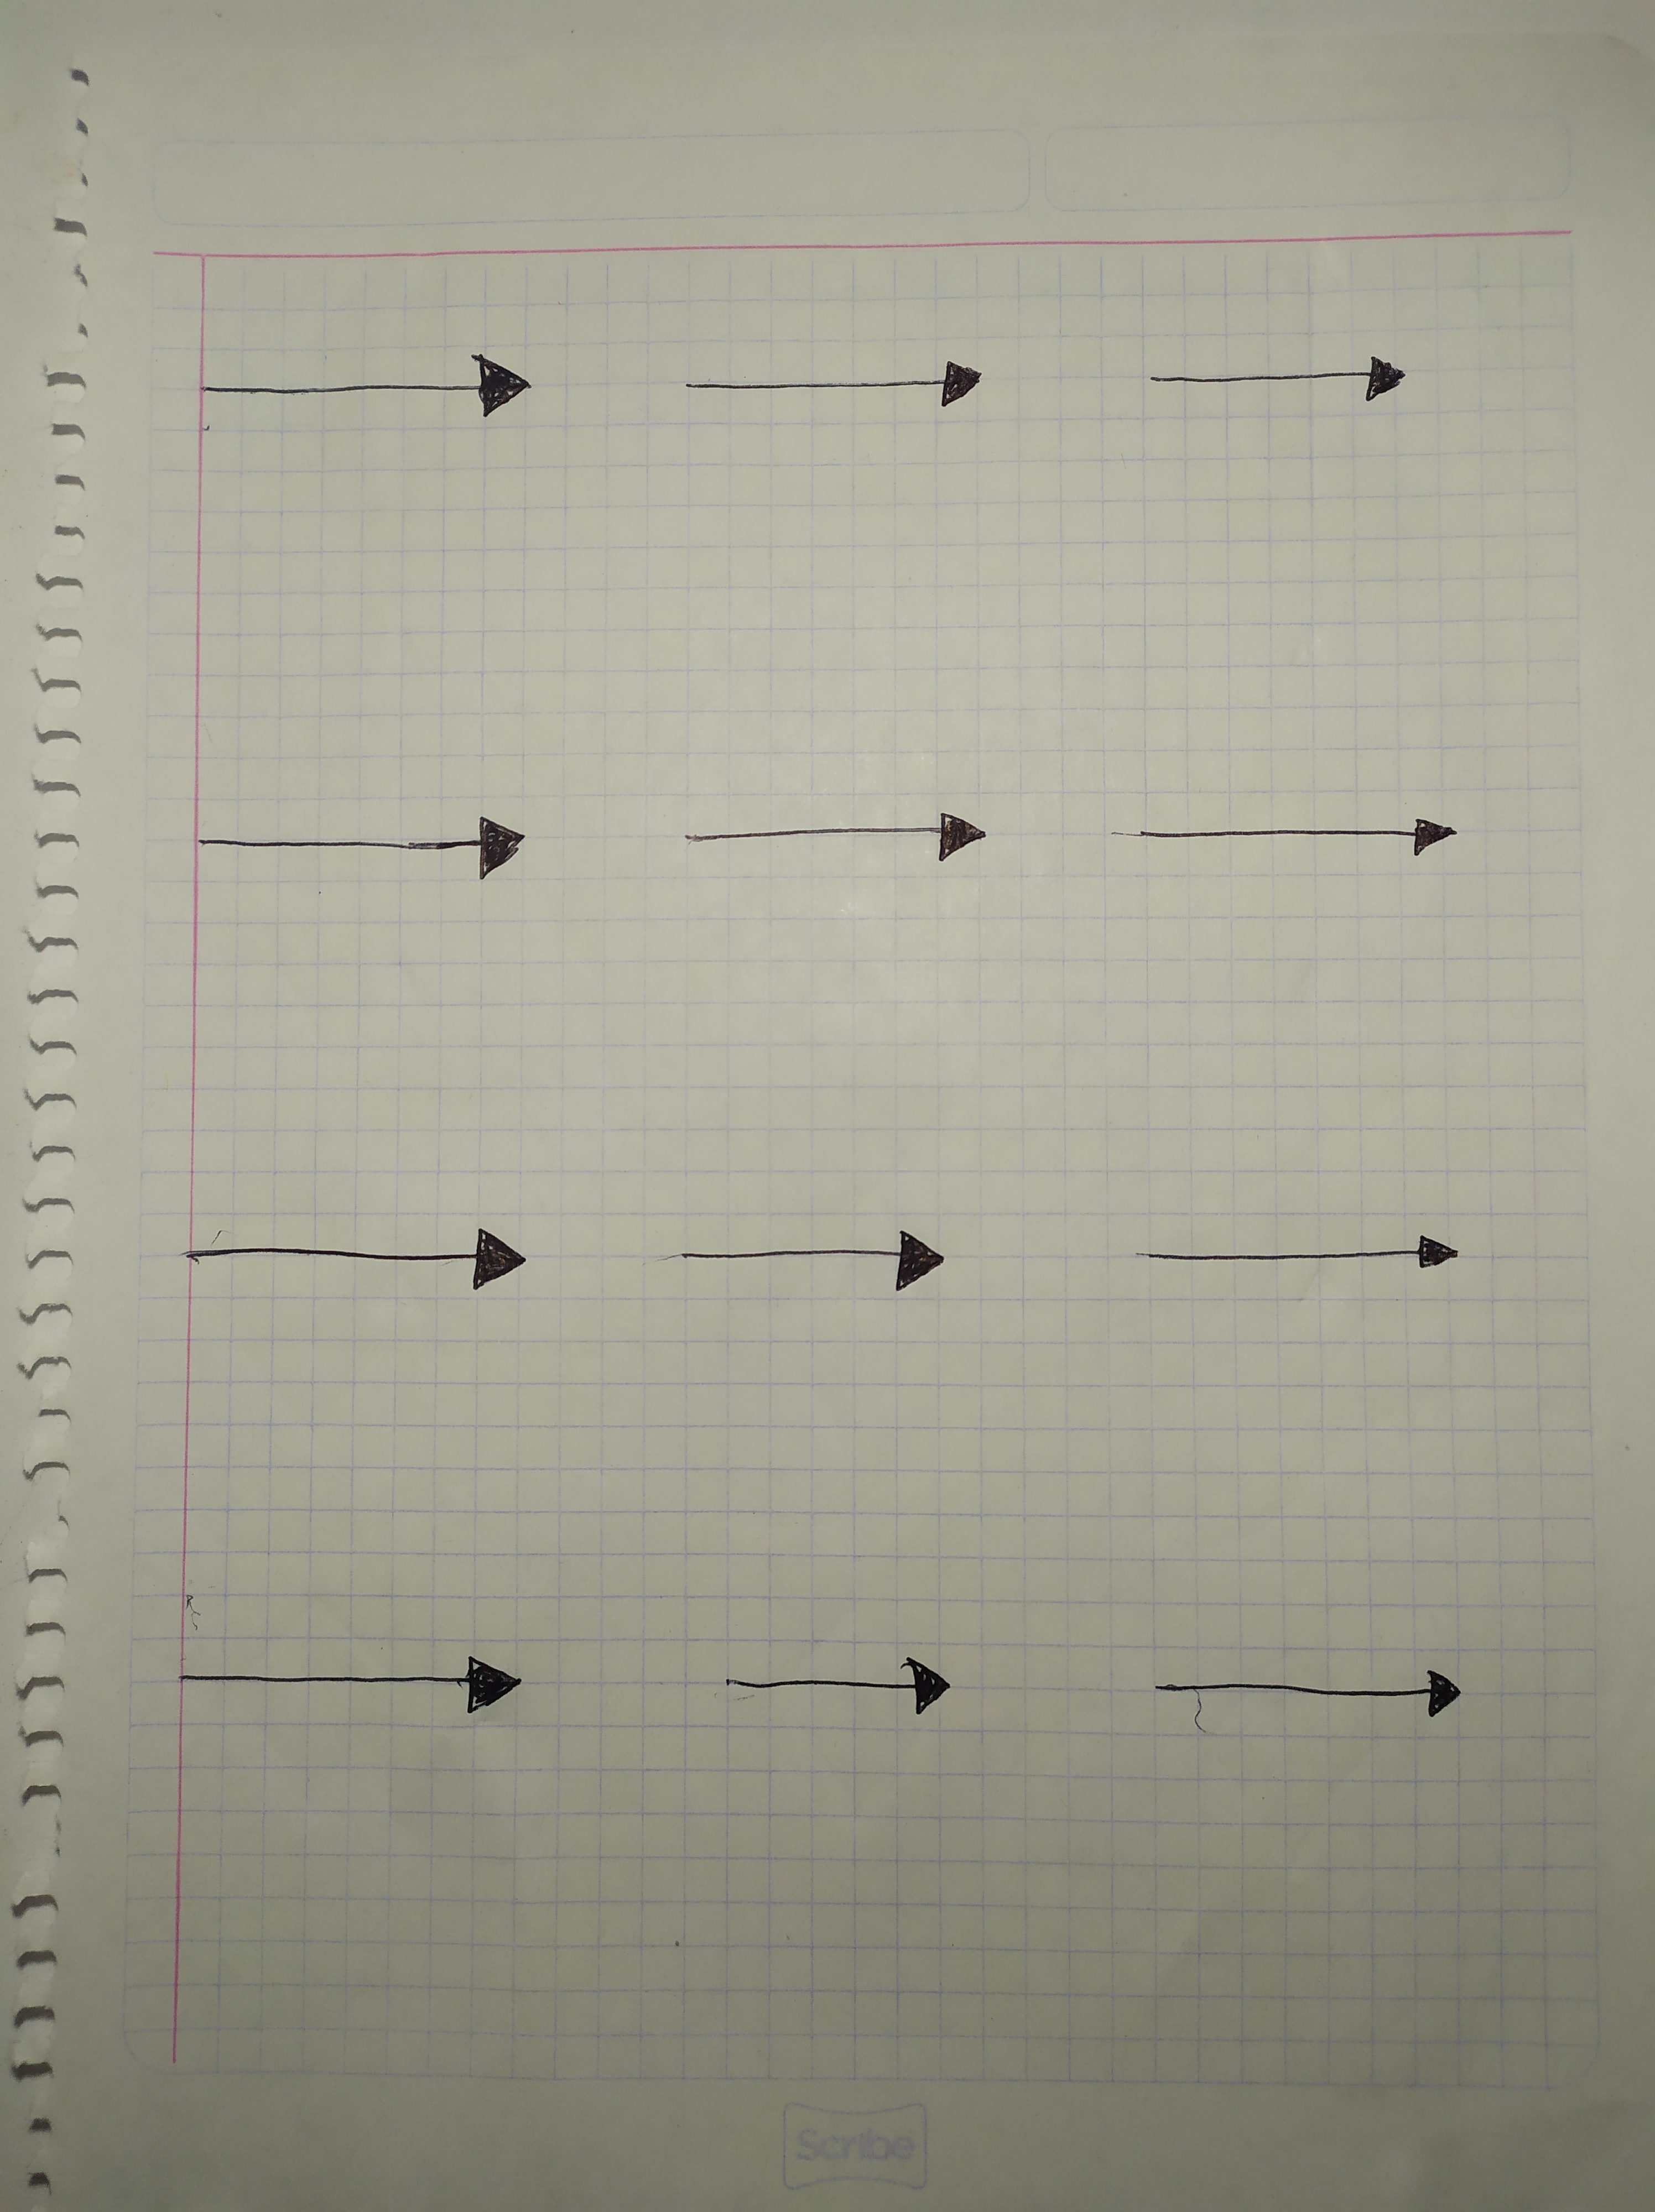arrow_line_right: (1067, 784, 1495, 891), (139, 1632, 584, 1732), (641, 328, 1029, 440), (146, 794, 553, 898), (167, 1201, 553, 1308), (176, 332, 562, 438), (685, 1640, 1019, 1753), (635, 1215, 1001, 1314), (1095, 1215, 1504, 1303), (647, 792, 1000, 891), (1135, 1654, 1478, 1738), (1120, 339, 1426, 424)
